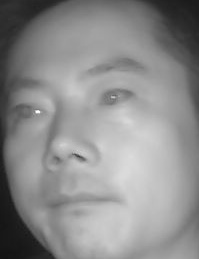eye: (7, 100, 53, 125), (92, 86, 139, 110)
mouth: (44, 185, 125, 223)
